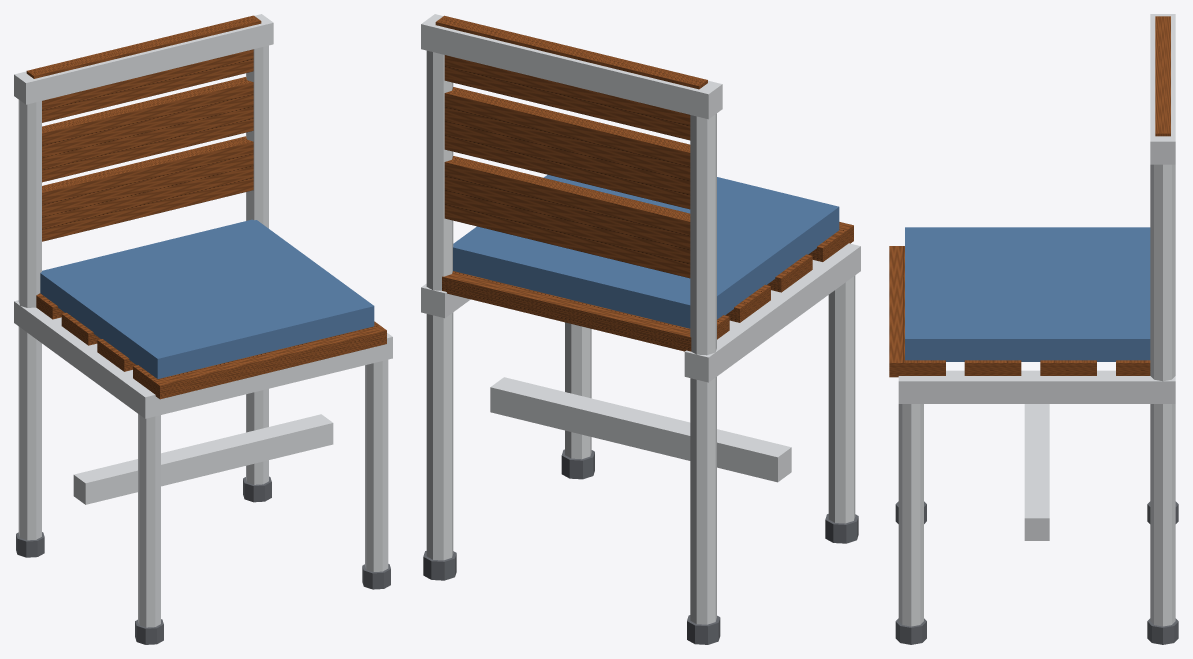
The model's file is cruise-ship-deck-and-lounge-cruise-ship-deck-and-loung-0db56e03__38455.glb.
3 renders of one model, left to right at view 1: azimuth 30°, elevation 25°; view 2: azimuth 150°, elevation 25°; view 3: azimuth 270°, elevation 25°, orthographic. The views are drawn at different scales.
Parts seen in each view (by area): view 1: cruise-ship-deck-and-lounge-cafe-chair; view 2: cruise-ship-deck-and-lounge-cafe-chair; view 3: cruise-ship-deck-and-lounge-cafe-chair.
Boxes of the visible parts, x1,y1,x2,y2 form: cruise-ship-deck-and-lounge-cafe-chair: [14, 14, 392, 644]; cruise-ship-deck-and-lounge-cafe-chair: [421, 14, 860, 644]; cruise-ship-deck-and-lounge-cafe-chair: [889, 14, 1178, 644].
Bounding box in the file's own units: 0.49 × 0.885 × 0.46.
Materials: 4 (1 with a texture image).
